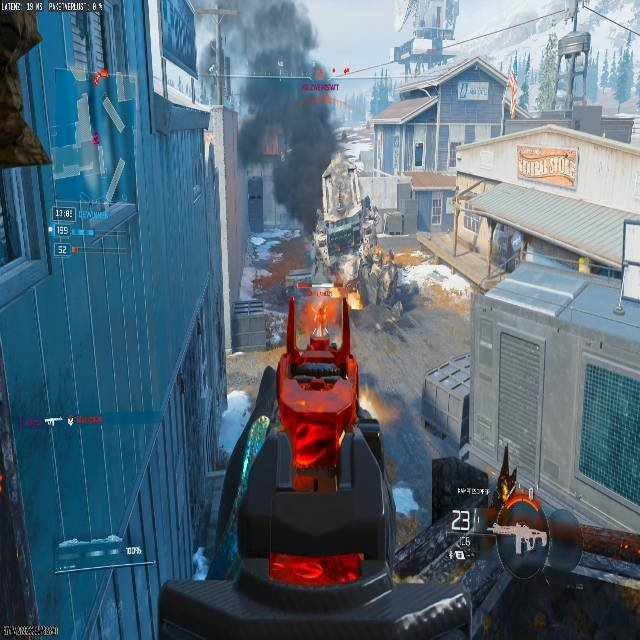player: (358, 195, 382, 273), (314, 304, 327, 334)
